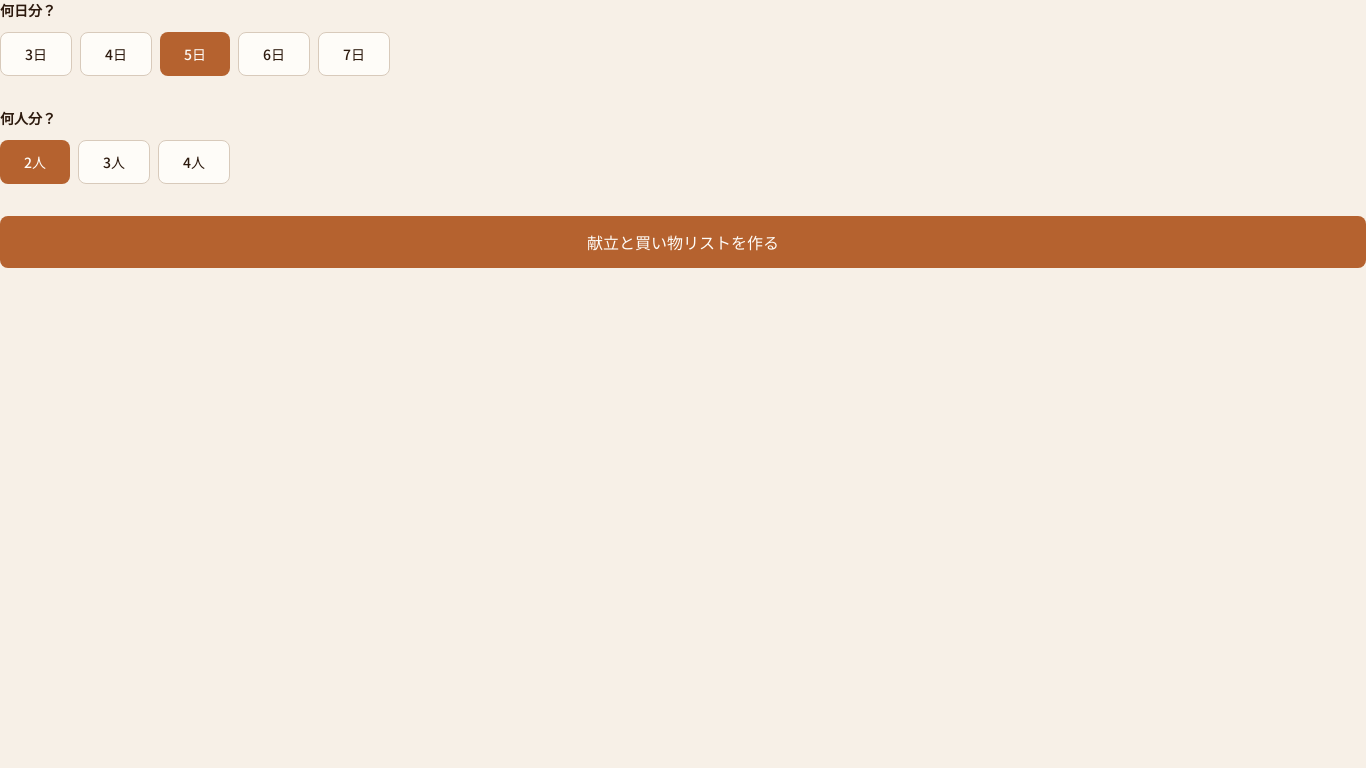
it: MealPlanner › 作成後はボタンの文言が作り直しに変わる
This screenshot has width=1366, height=768.
Click the button "献立と買い物リストを作る": x=683, y=242 [0,216,1365,268]
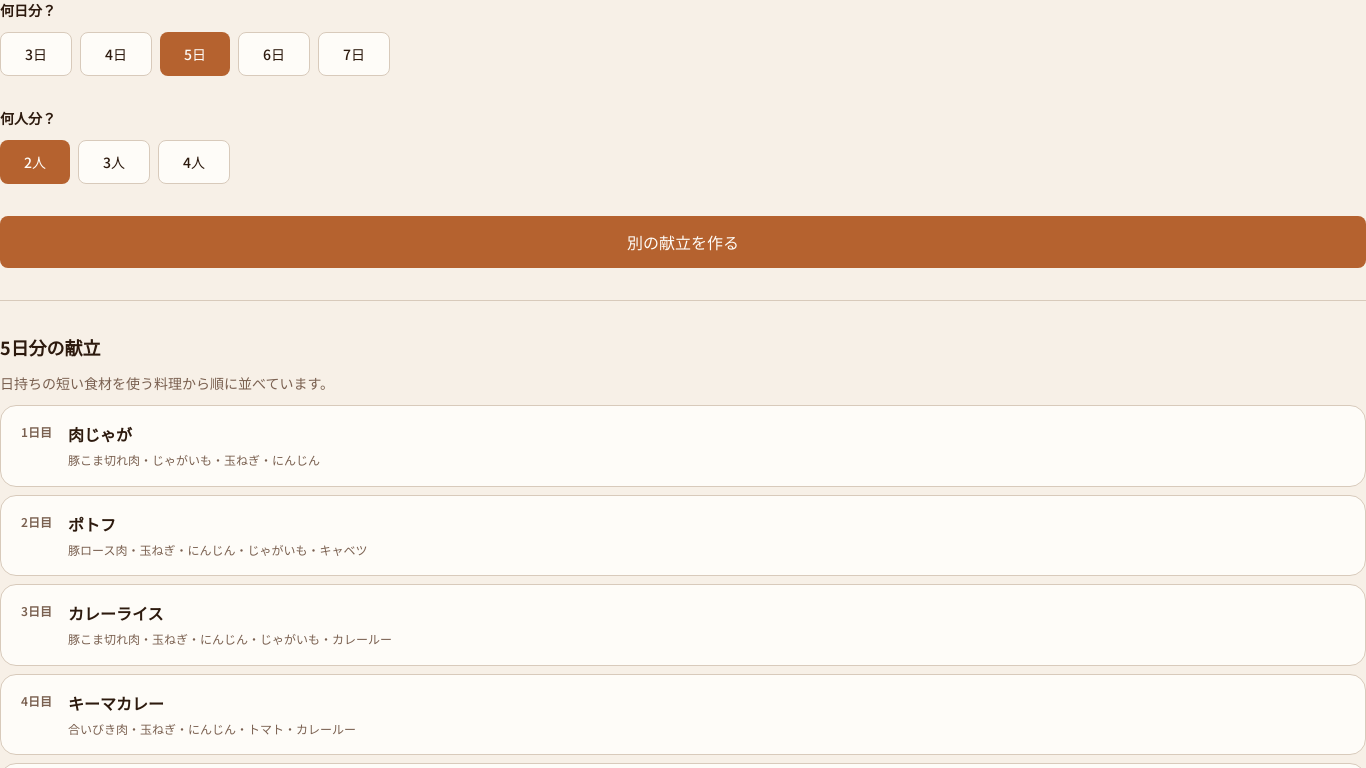
Result: the button "別の献立を作る" is shown at [0,216,1365,268]
